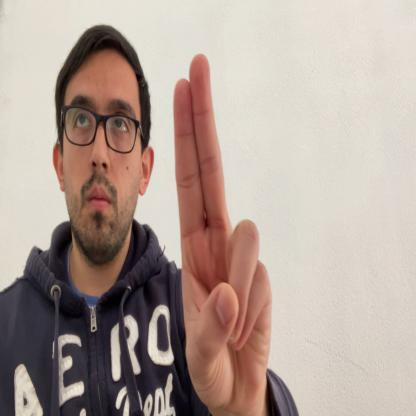U: (174, 53, 272, 414)
